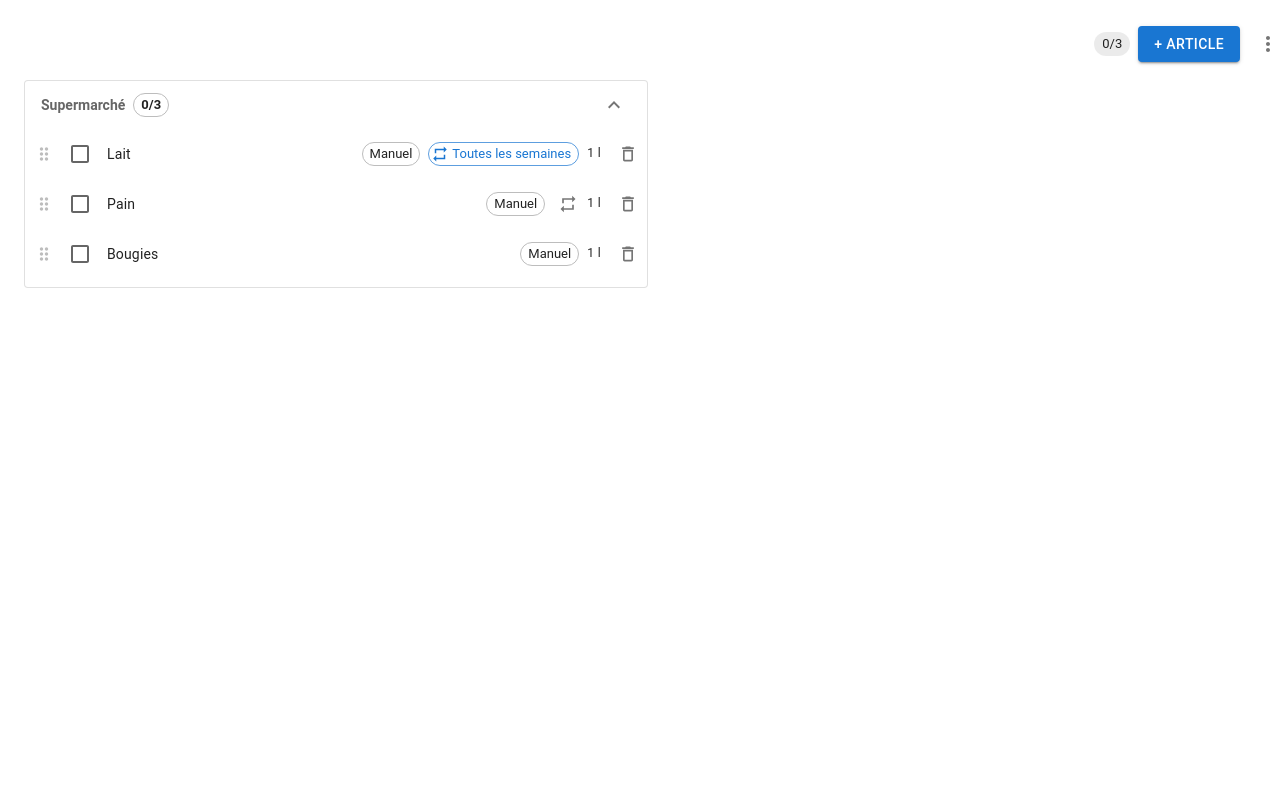
Test case: GroceryListView — recurring items › the « Produit récurrent » dialog › proposes only the products that are not recurring yet
Check: the text "Lait" is shown, box [107,146,131,162]
Click the button named "Plus d'actions".
click(1264, 44)  # box [1248,24,1279,64]
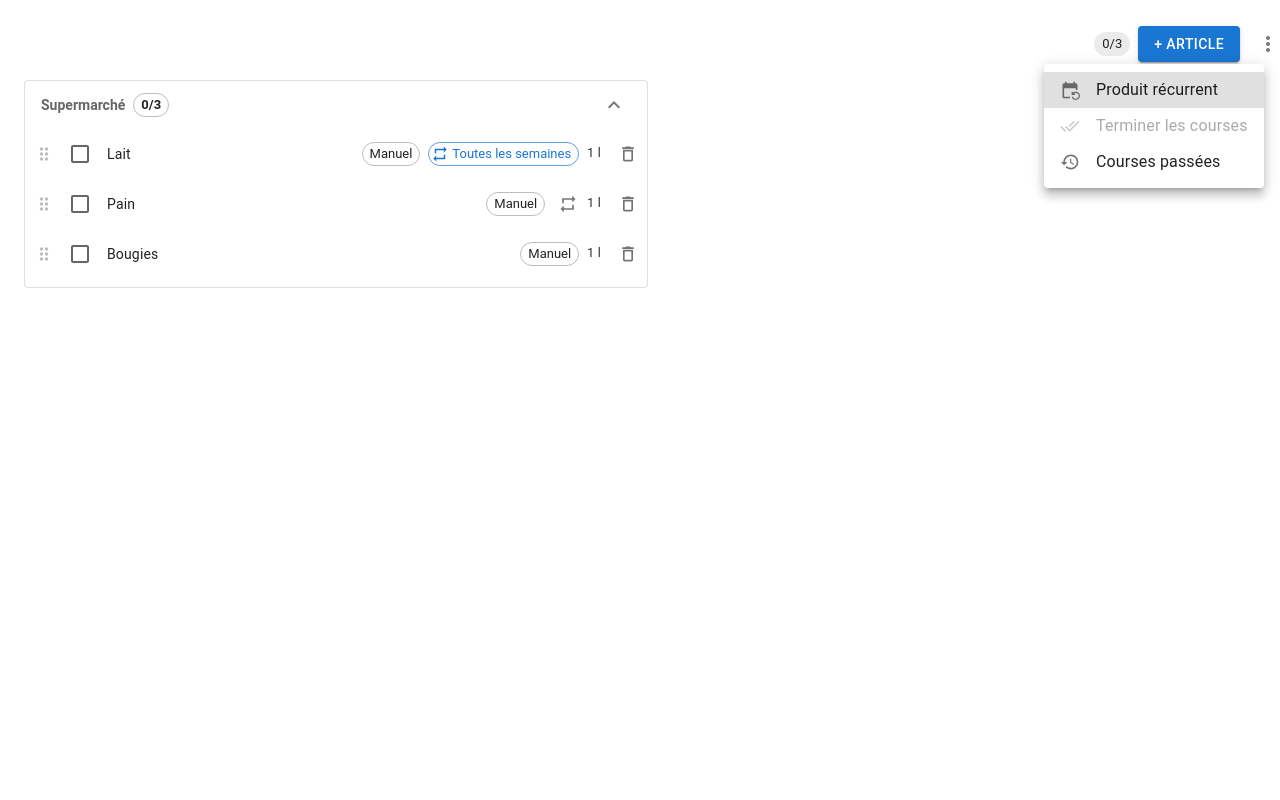
Click the menu item "Produit récurrent".
click(1154, 90)  # box [1044,72,1264,108]
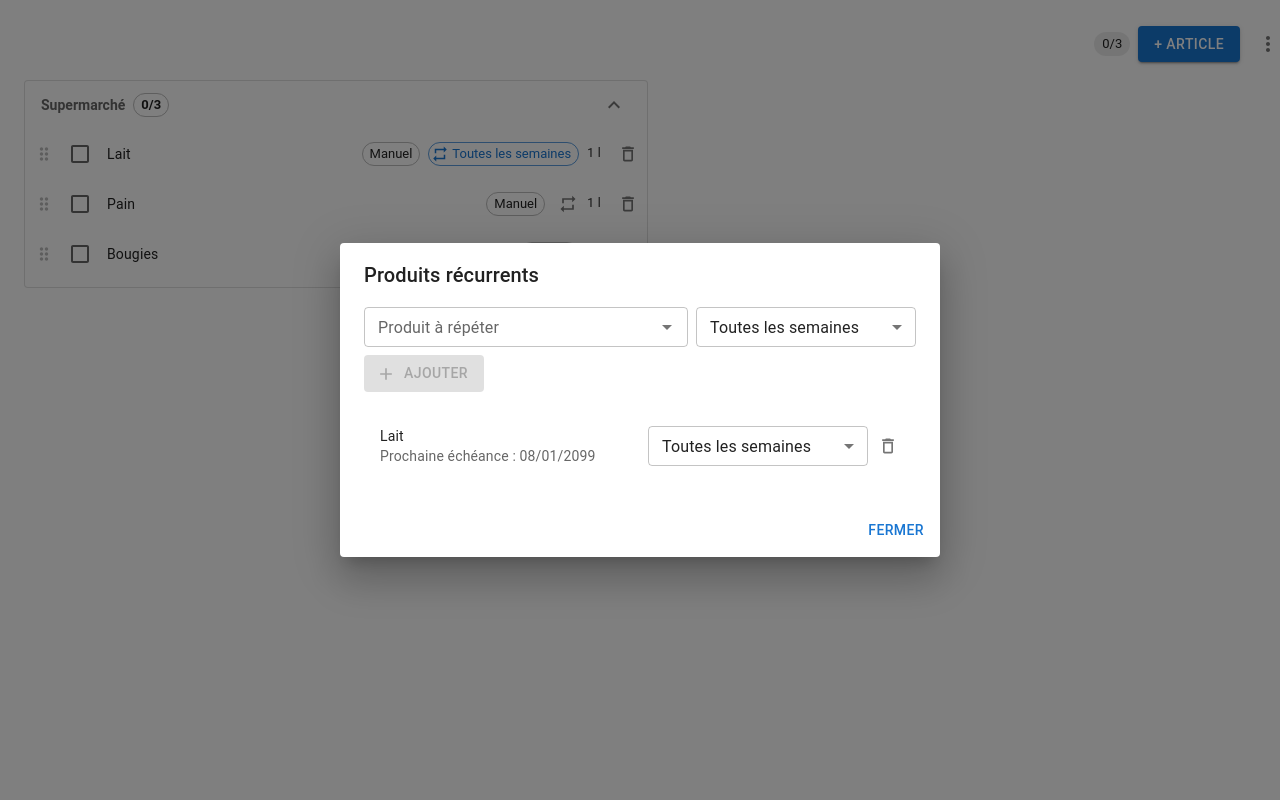
Check: the list item with test id "recurring-item" is shown, box [364,416,916,476]
Click the dropdown labelled "Produit à répéter".
click(510, 328)  # box [370,314,649,342]
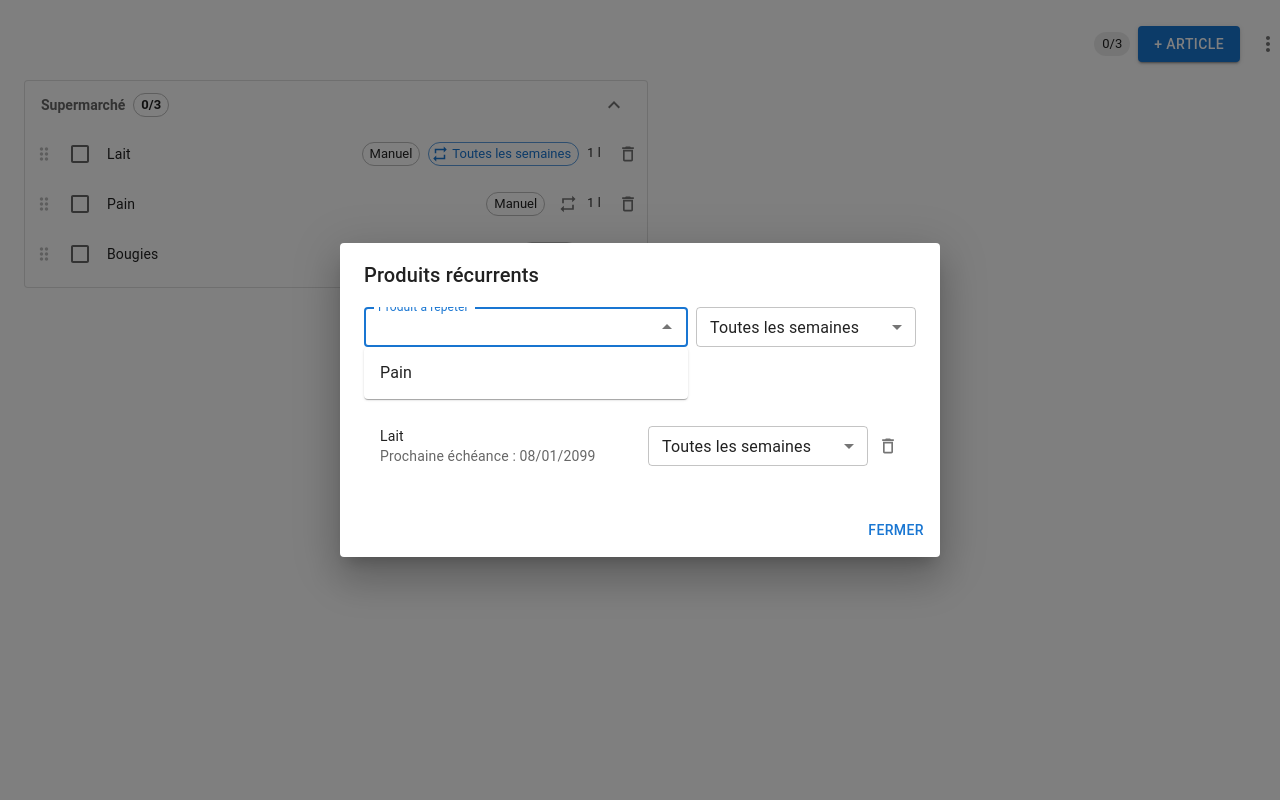
Check: the option "Pain" is shown, box [380,363,412,382]
